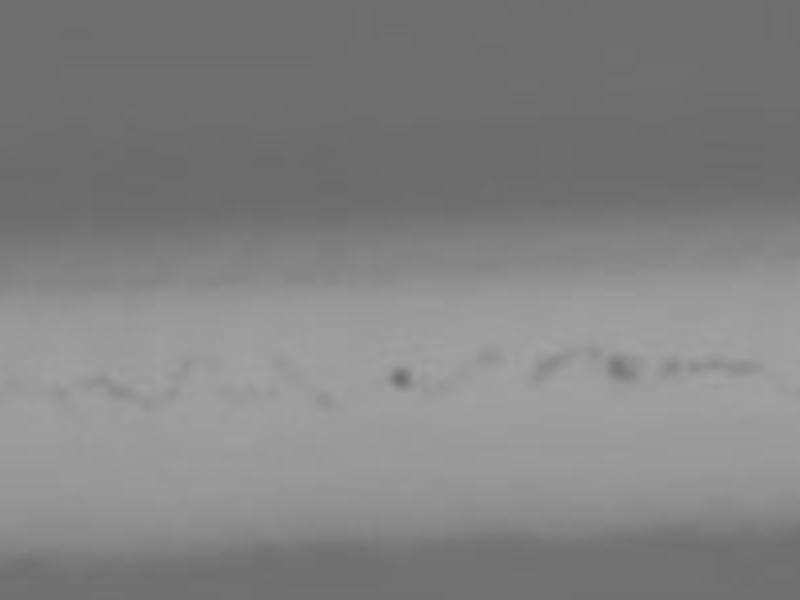defect: (713, 354, 763, 378), (608, 352, 643, 381), (265, 350, 298, 378), (476, 347, 506, 373), (385, 365, 414, 387), (660, 355, 683, 382), (532, 357, 557, 381), (558, 343, 579, 370), (158, 382, 182, 402), (132, 396, 153, 417), (687, 355, 709, 375), (81, 369, 106, 386), (178, 351, 194, 377), (110, 381, 131, 400), (585, 343, 606, 361), (316, 390, 334, 410)
